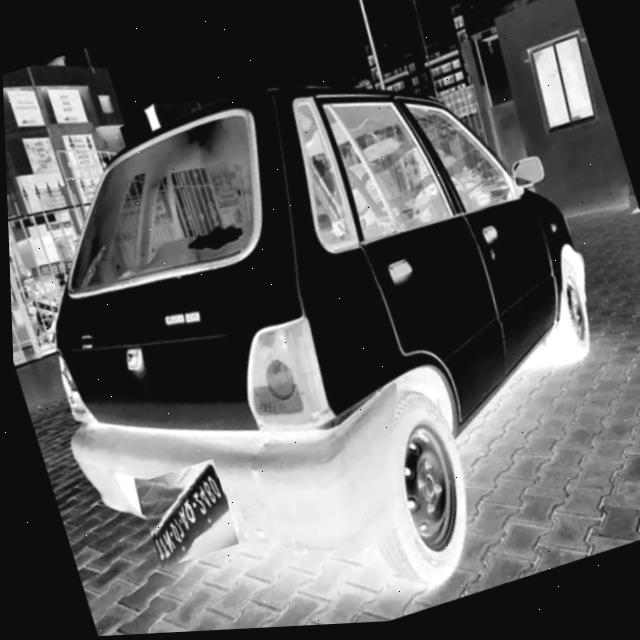Non_registered: (131, 460, 235, 571)
